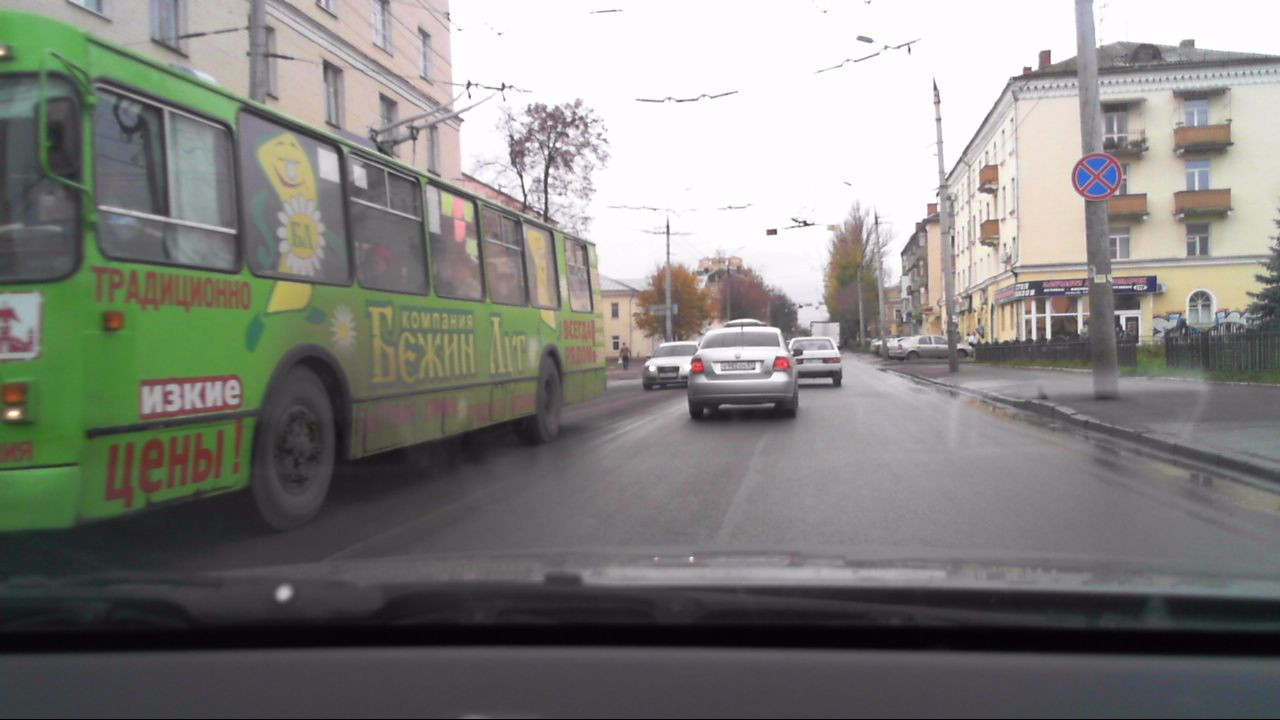No Parking: (1068, 150, 1124, 204)
